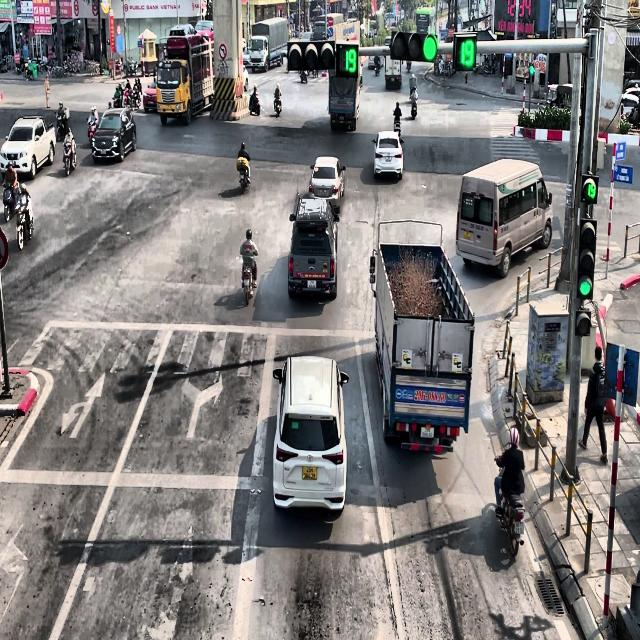lisence_plate: (394, 385, 466, 407), (301, 465, 318, 481), (420, 426, 434, 440), (470, 220, 484, 232), (306, 279, 317, 289), (319, 188, 326, 196), (465, 231, 471, 239), (385, 156, 392, 162), (339, 116, 344, 121), (391, 78, 395, 82)
